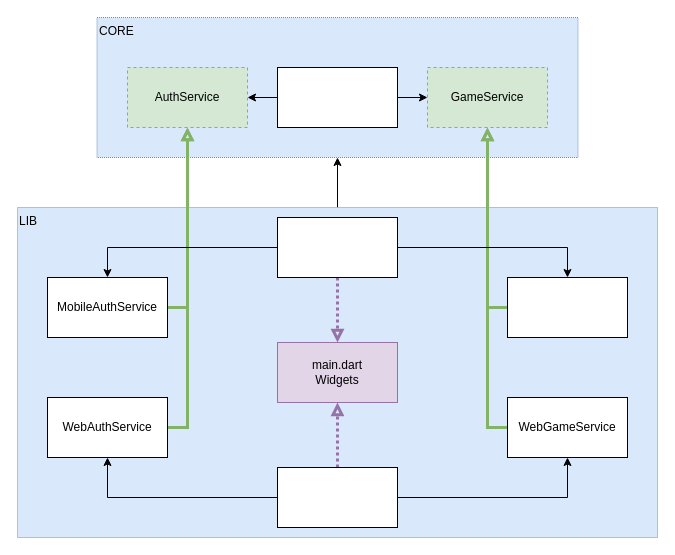
This 675x555 diagram has some shape labels left out. The box of each missing label's shape, as (x1, y1, x2, y2) in pixels:
main_mobile.dart: (276, 216, 398, 278)
main_web.dart: (276, 466, 398, 528)
MobileGameService: (506, 276, 628, 338)
Models Serializers Blocs: (276, 66, 398, 128)
